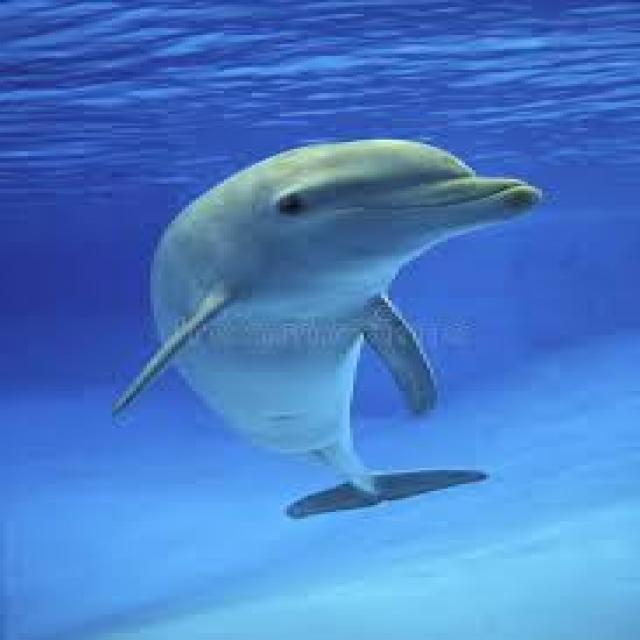dolphin: (77, 98, 549, 544)
